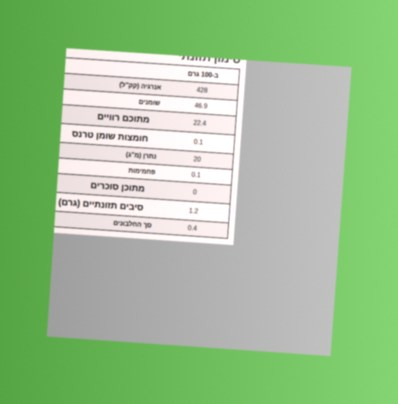carbs: (190, 170, 202, 179)
energy: (195, 85, 209, 95)
fat: (193, 101, 208, 111)
protein: (187, 223, 198, 233)
